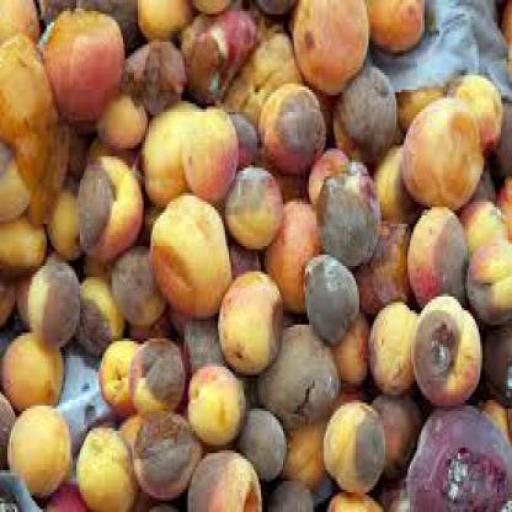biodegradable: (402, 403, 510, 509), (37, 0, 123, 128), (149, 188, 229, 316), (253, 316, 339, 425), (400, 96, 482, 202), (176, 9, 262, 101), (412, 291, 480, 403), (216, 28, 302, 112), (212, 269, 279, 375), (288, 0, 365, 92), (74, 151, 141, 255), (260, 196, 322, 308), (137, 90, 201, 198), (130, 403, 201, 495), (330, 64, 394, 162), (4, 403, 71, 495), (317, 157, 376, 260), (0, 31, 54, 143), (404, 201, 465, 300), (178, 316, 250, 398), (322, 397, 383, 493), (22, 246, 79, 345), (256, 84, 322, 168), (72, 423, 136, 509), (0, 327, 64, 410), (180, 101, 237, 193), (367, 296, 418, 398), (33, 0, 137, 50), (277, 411, 333, 503), (302, 249, 358, 338), (186, 445, 263, 509), (353, 222, 410, 308), (443, 73, 501, 156), (222, 163, 280, 246), (110, 244, 168, 327), (11, 117, 55, 221), (126, 330, 183, 408), (464, 235, 510, 327), (368, 389, 417, 475), (121, 37, 183, 103), (234, 405, 285, 482), (370, 138, 418, 218), (74, 272, 123, 350), (80, 137, 144, 190), (98, 336, 140, 409), (363, 0, 424, 50), (456, 192, 505, 252), (332, 305, 366, 389), (0, 212, 47, 272), (477, 322, 510, 405), (45, 174, 79, 254), (307, 145, 350, 202), (454, 154, 496, 210), (94, 90, 145, 136), (133, 0, 190, 39), (391, 84, 441, 126), (46, 109, 71, 190), (486, 101, 510, 182), (326, 98, 358, 157), (0, 0, 41, 46), (0, 140, 26, 212), (225, 109, 255, 168), (168, 297, 210, 336), (266, 475, 311, 510), (475, 391, 510, 431), (327, 377, 367, 412), (78, 251, 115, 286), (226, 241, 258, 280), (0, 387, 15, 470), (272, 160, 305, 196), (40, 482, 84, 509), (324, 490, 382, 509), (11, 265, 30, 322), (130, 490, 184, 509), (376, 475, 404, 510), (497, 0, 510, 73), (497, 170, 510, 240), (116, 406, 142, 440), (0, 268, 15, 325), (190, 0, 238, 15), (251, 0, 293, 11)
